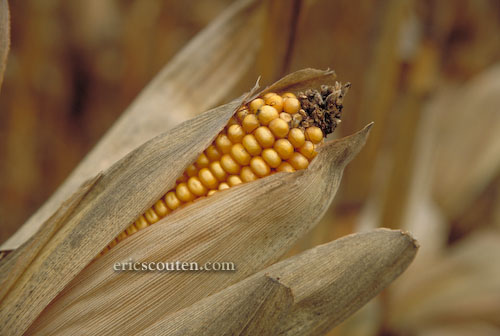corn: (2, 65, 375, 335)
